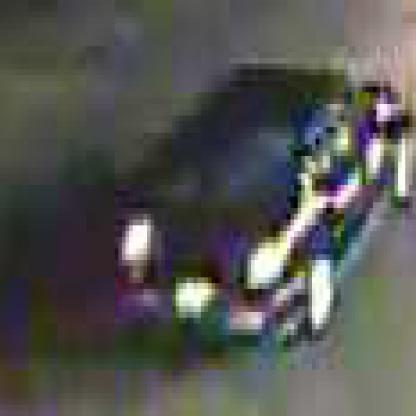car: (123, 47, 410, 394)
